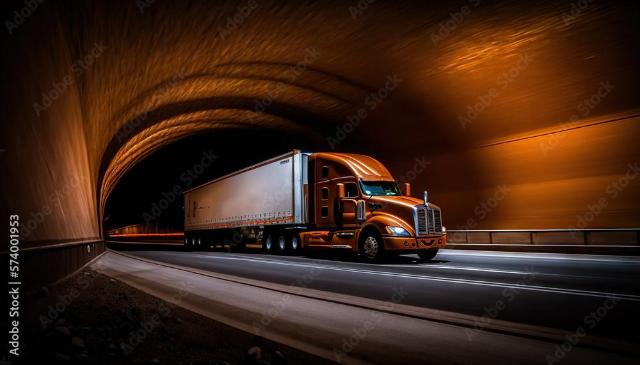truck: (189, 156, 486, 303)
